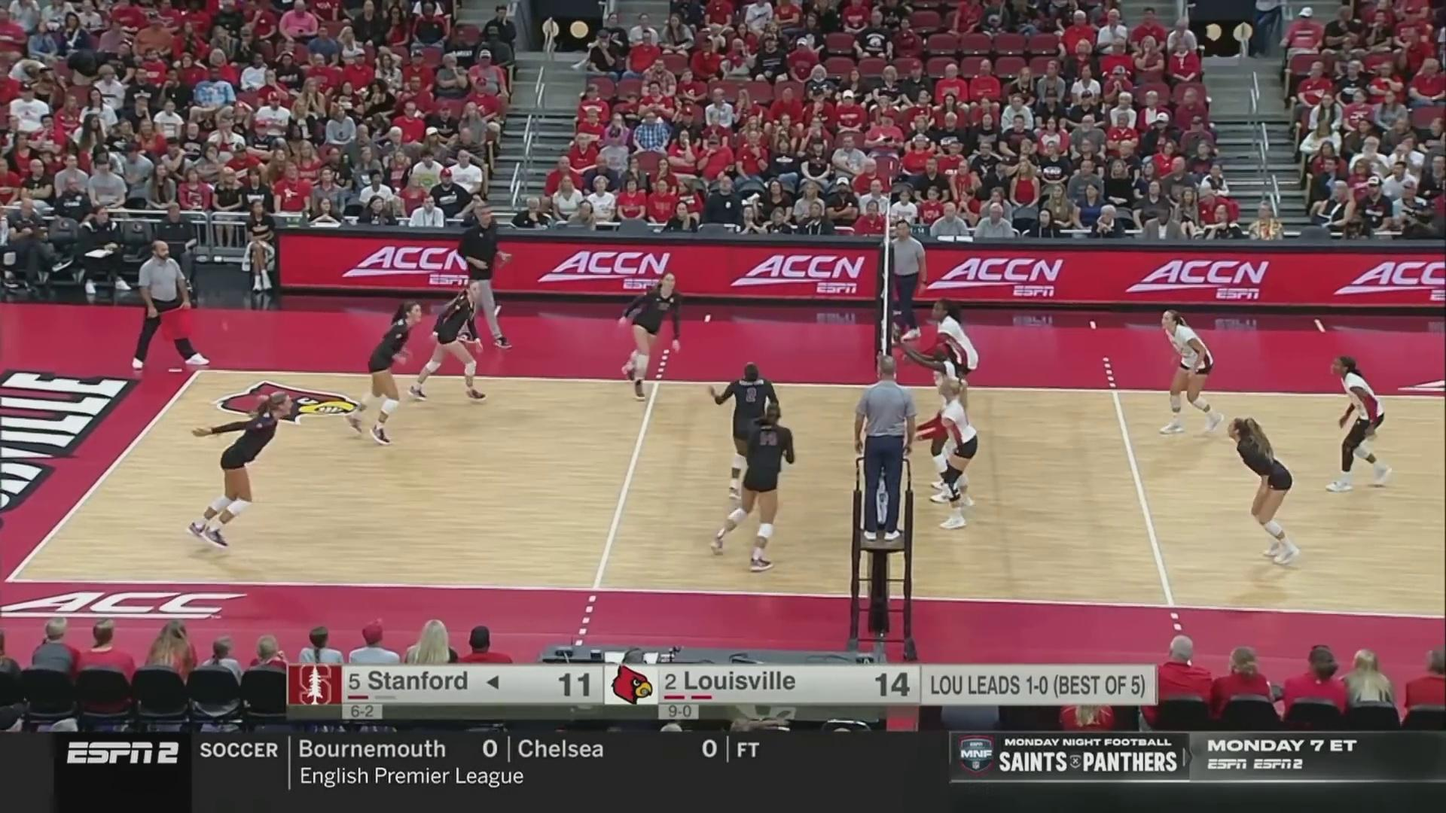player: (187, 391, 290, 548), (711, 403, 795, 569), (1224, 418, 1300, 566), (342, 304, 420, 445), (915, 376, 981, 530), (711, 363, 781, 500), (408, 282, 486, 401), (910, 340, 966, 502), (1325, 355, 1391, 490), (618, 272, 681, 400), (1156, 311, 1220, 432), (925, 300, 980, 434)
refree: (856, 356, 915, 540), (132, 241, 207, 367), (885, 219, 926, 343)
